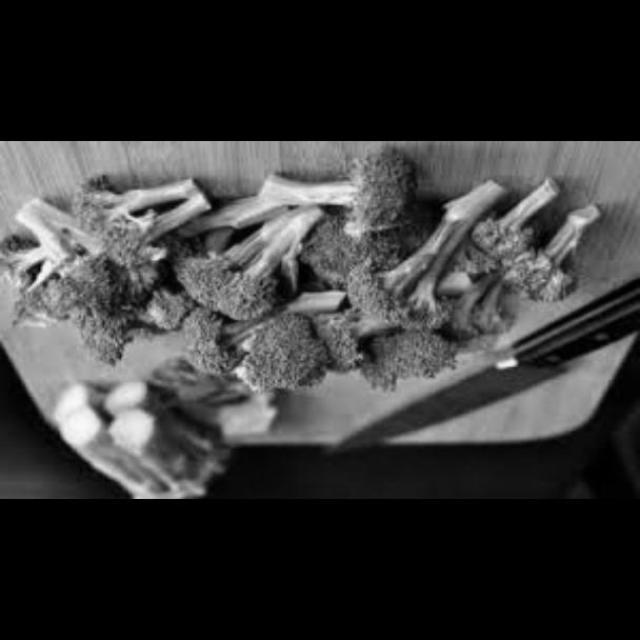bong cai xanh: (0, 142, 608, 402)
